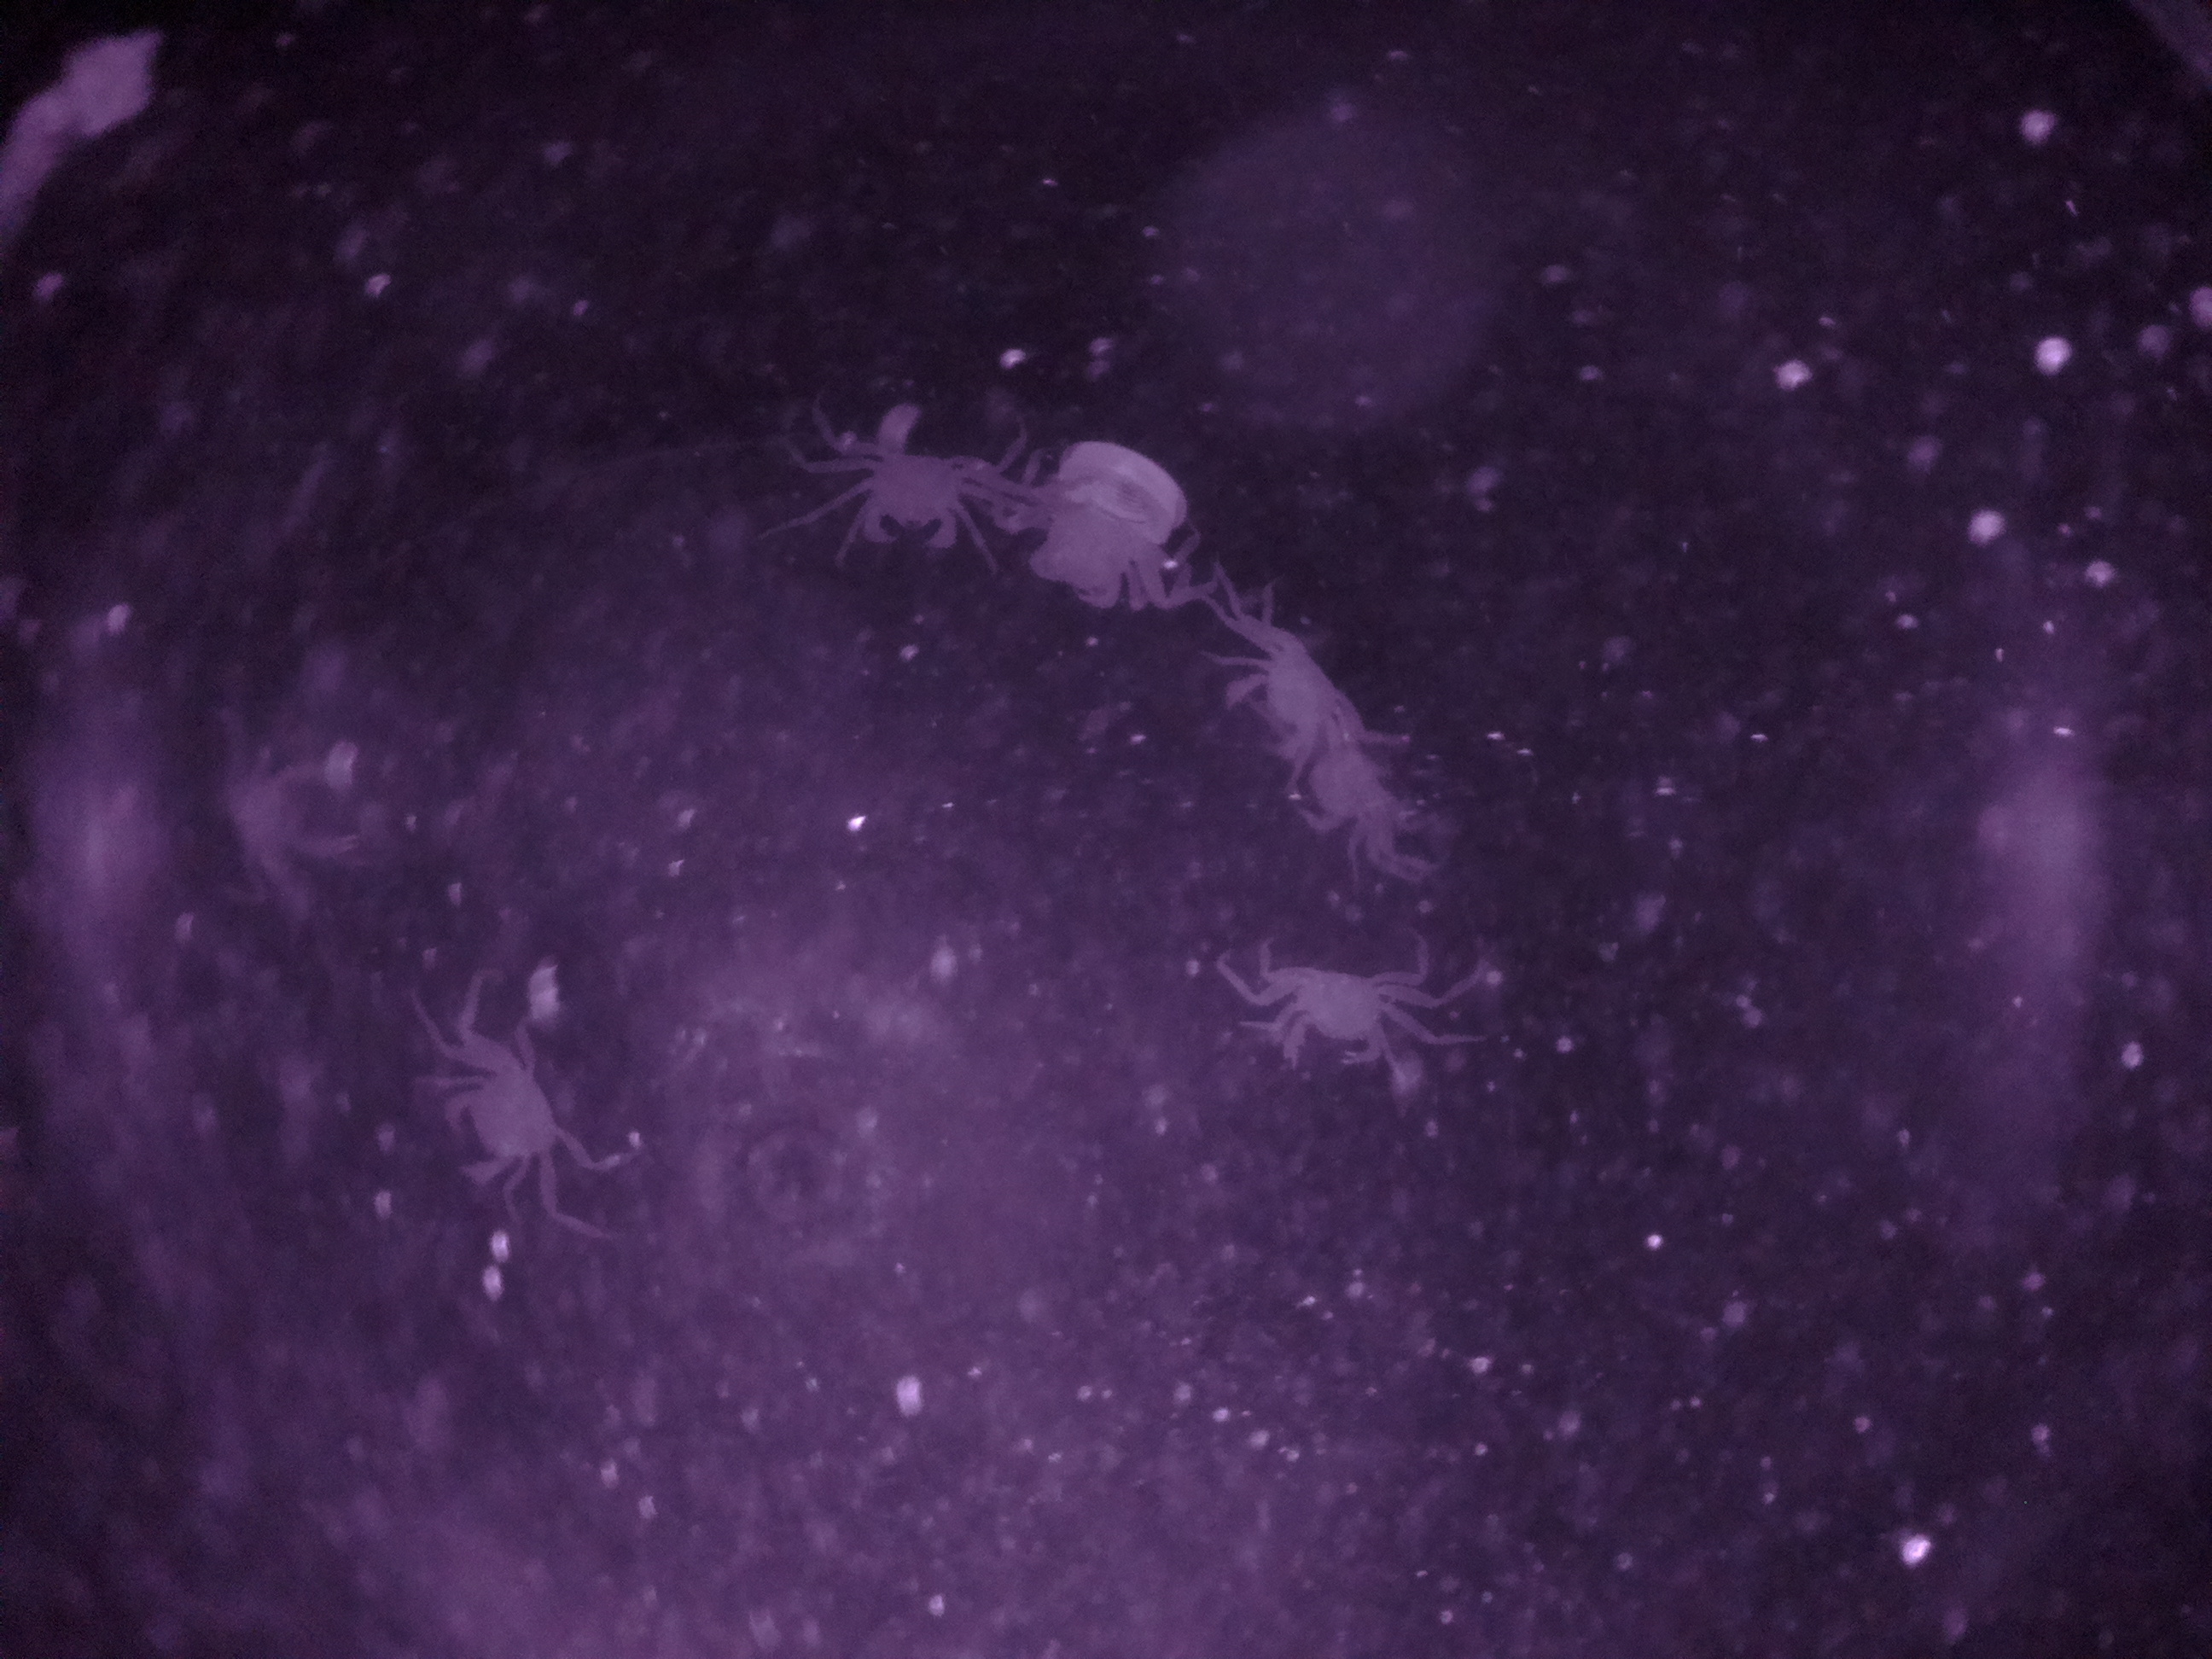Crab: (418, 981, 592, 1220), (787, 416, 1021, 573), (1219, 938, 1468, 1075)
